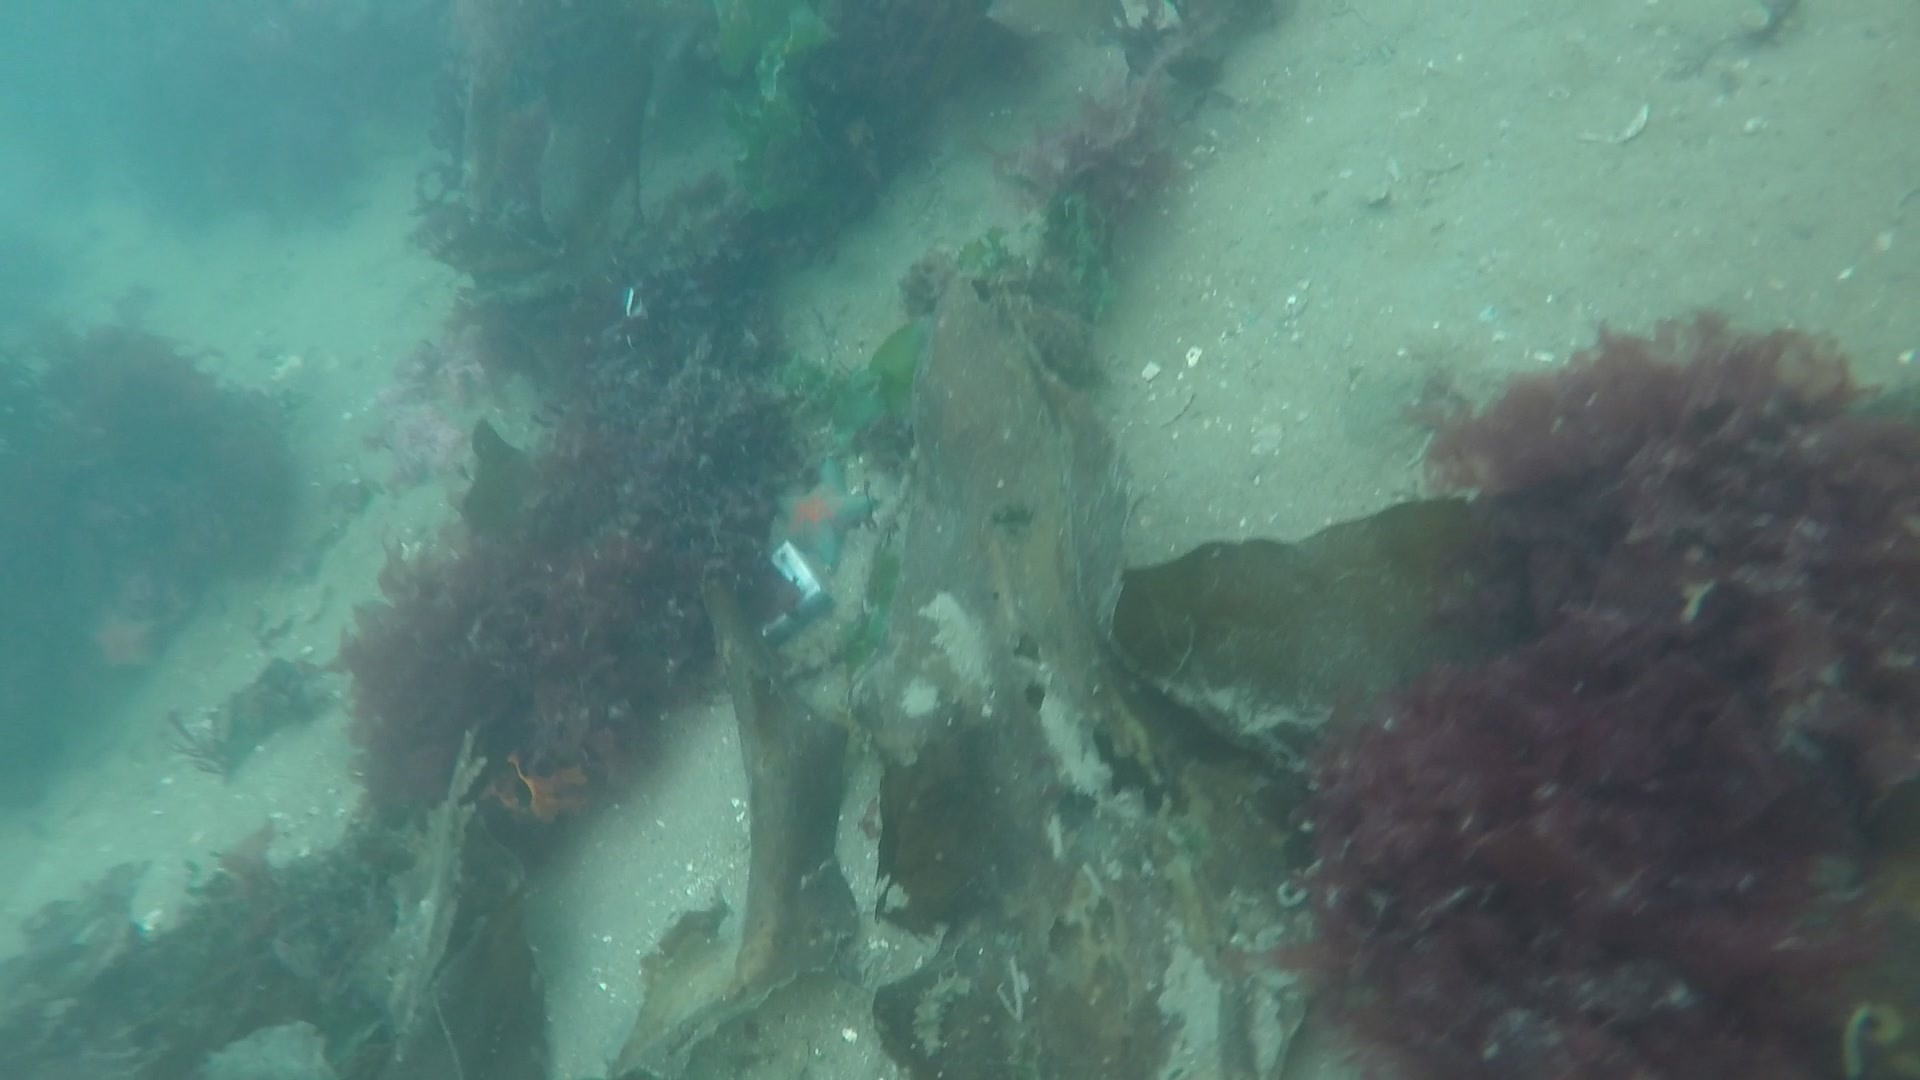starfish: (761, 458, 872, 574)
